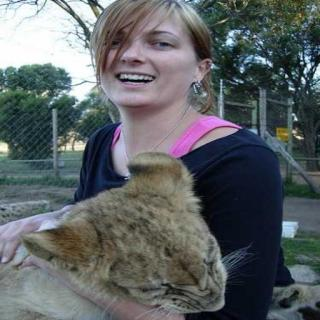Leopard: (5, 133, 236, 312)
